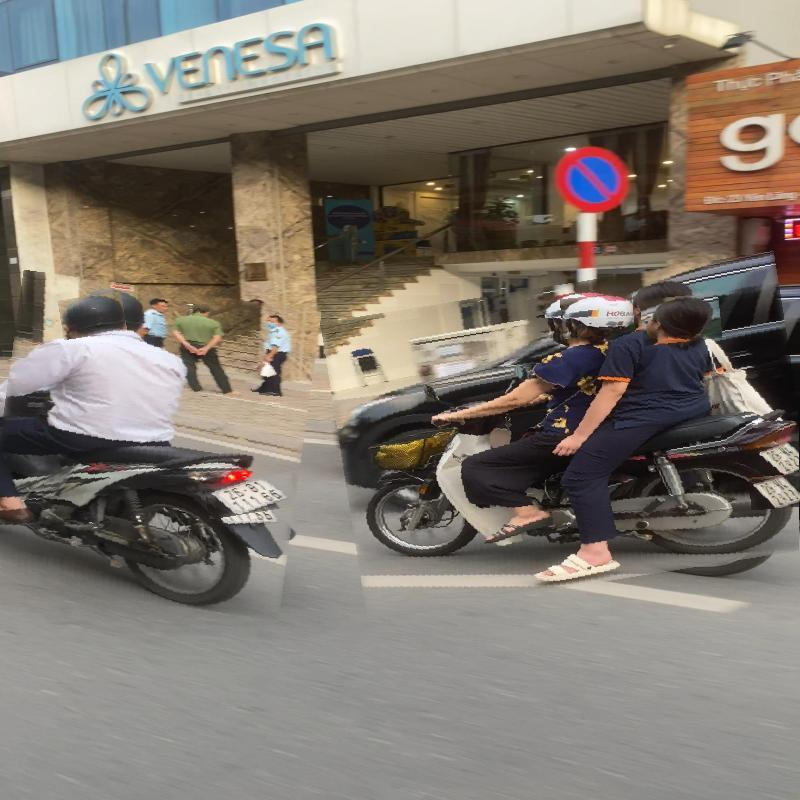helmet: (562, 294, 635, 337), (60, 293, 127, 338)
licenseplate: (204, 475, 296, 516), (749, 474, 800, 509)
motorcyclist: (330, 268, 800, 602), (0, 279, 311, 610)
nohelmet: (640, 294, 721, 344)
